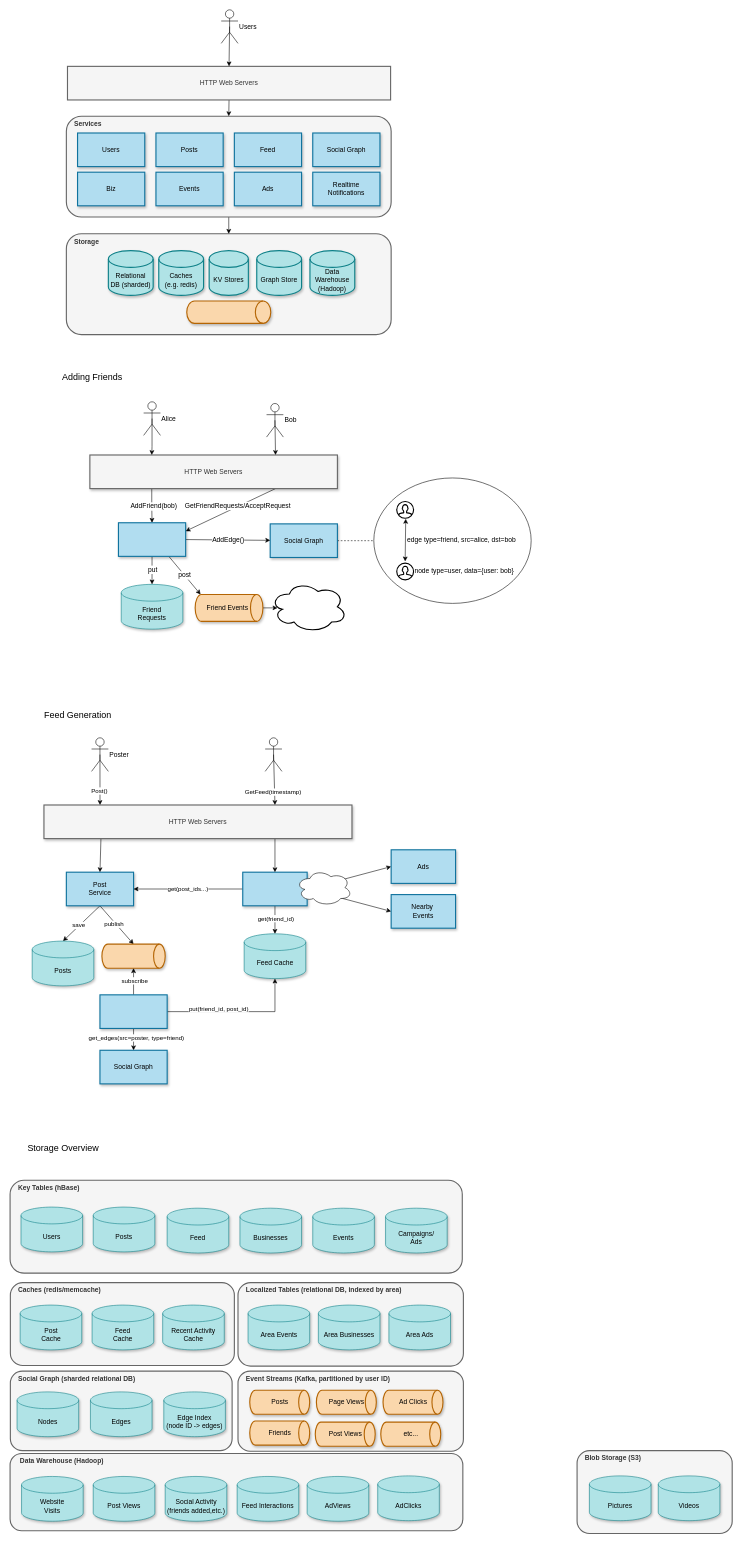
This 743x1544 diagram has some shape labels left out. Here are the shapes that lost their labels. From the top down, the centre of each, then its label:
point (229, 313): PubSub Events
point (405, 510): node type=user, data={user: alice}
point (152, 540): User Service
point (308, 606): Feed Fanout, Recent Activity, etc.
point (273, 754): Friend
point (275, 889): Feed Service
point (323, 887): Aggregate
point (134, 956): Post Events
point (134, 1012): Feed Fanout
